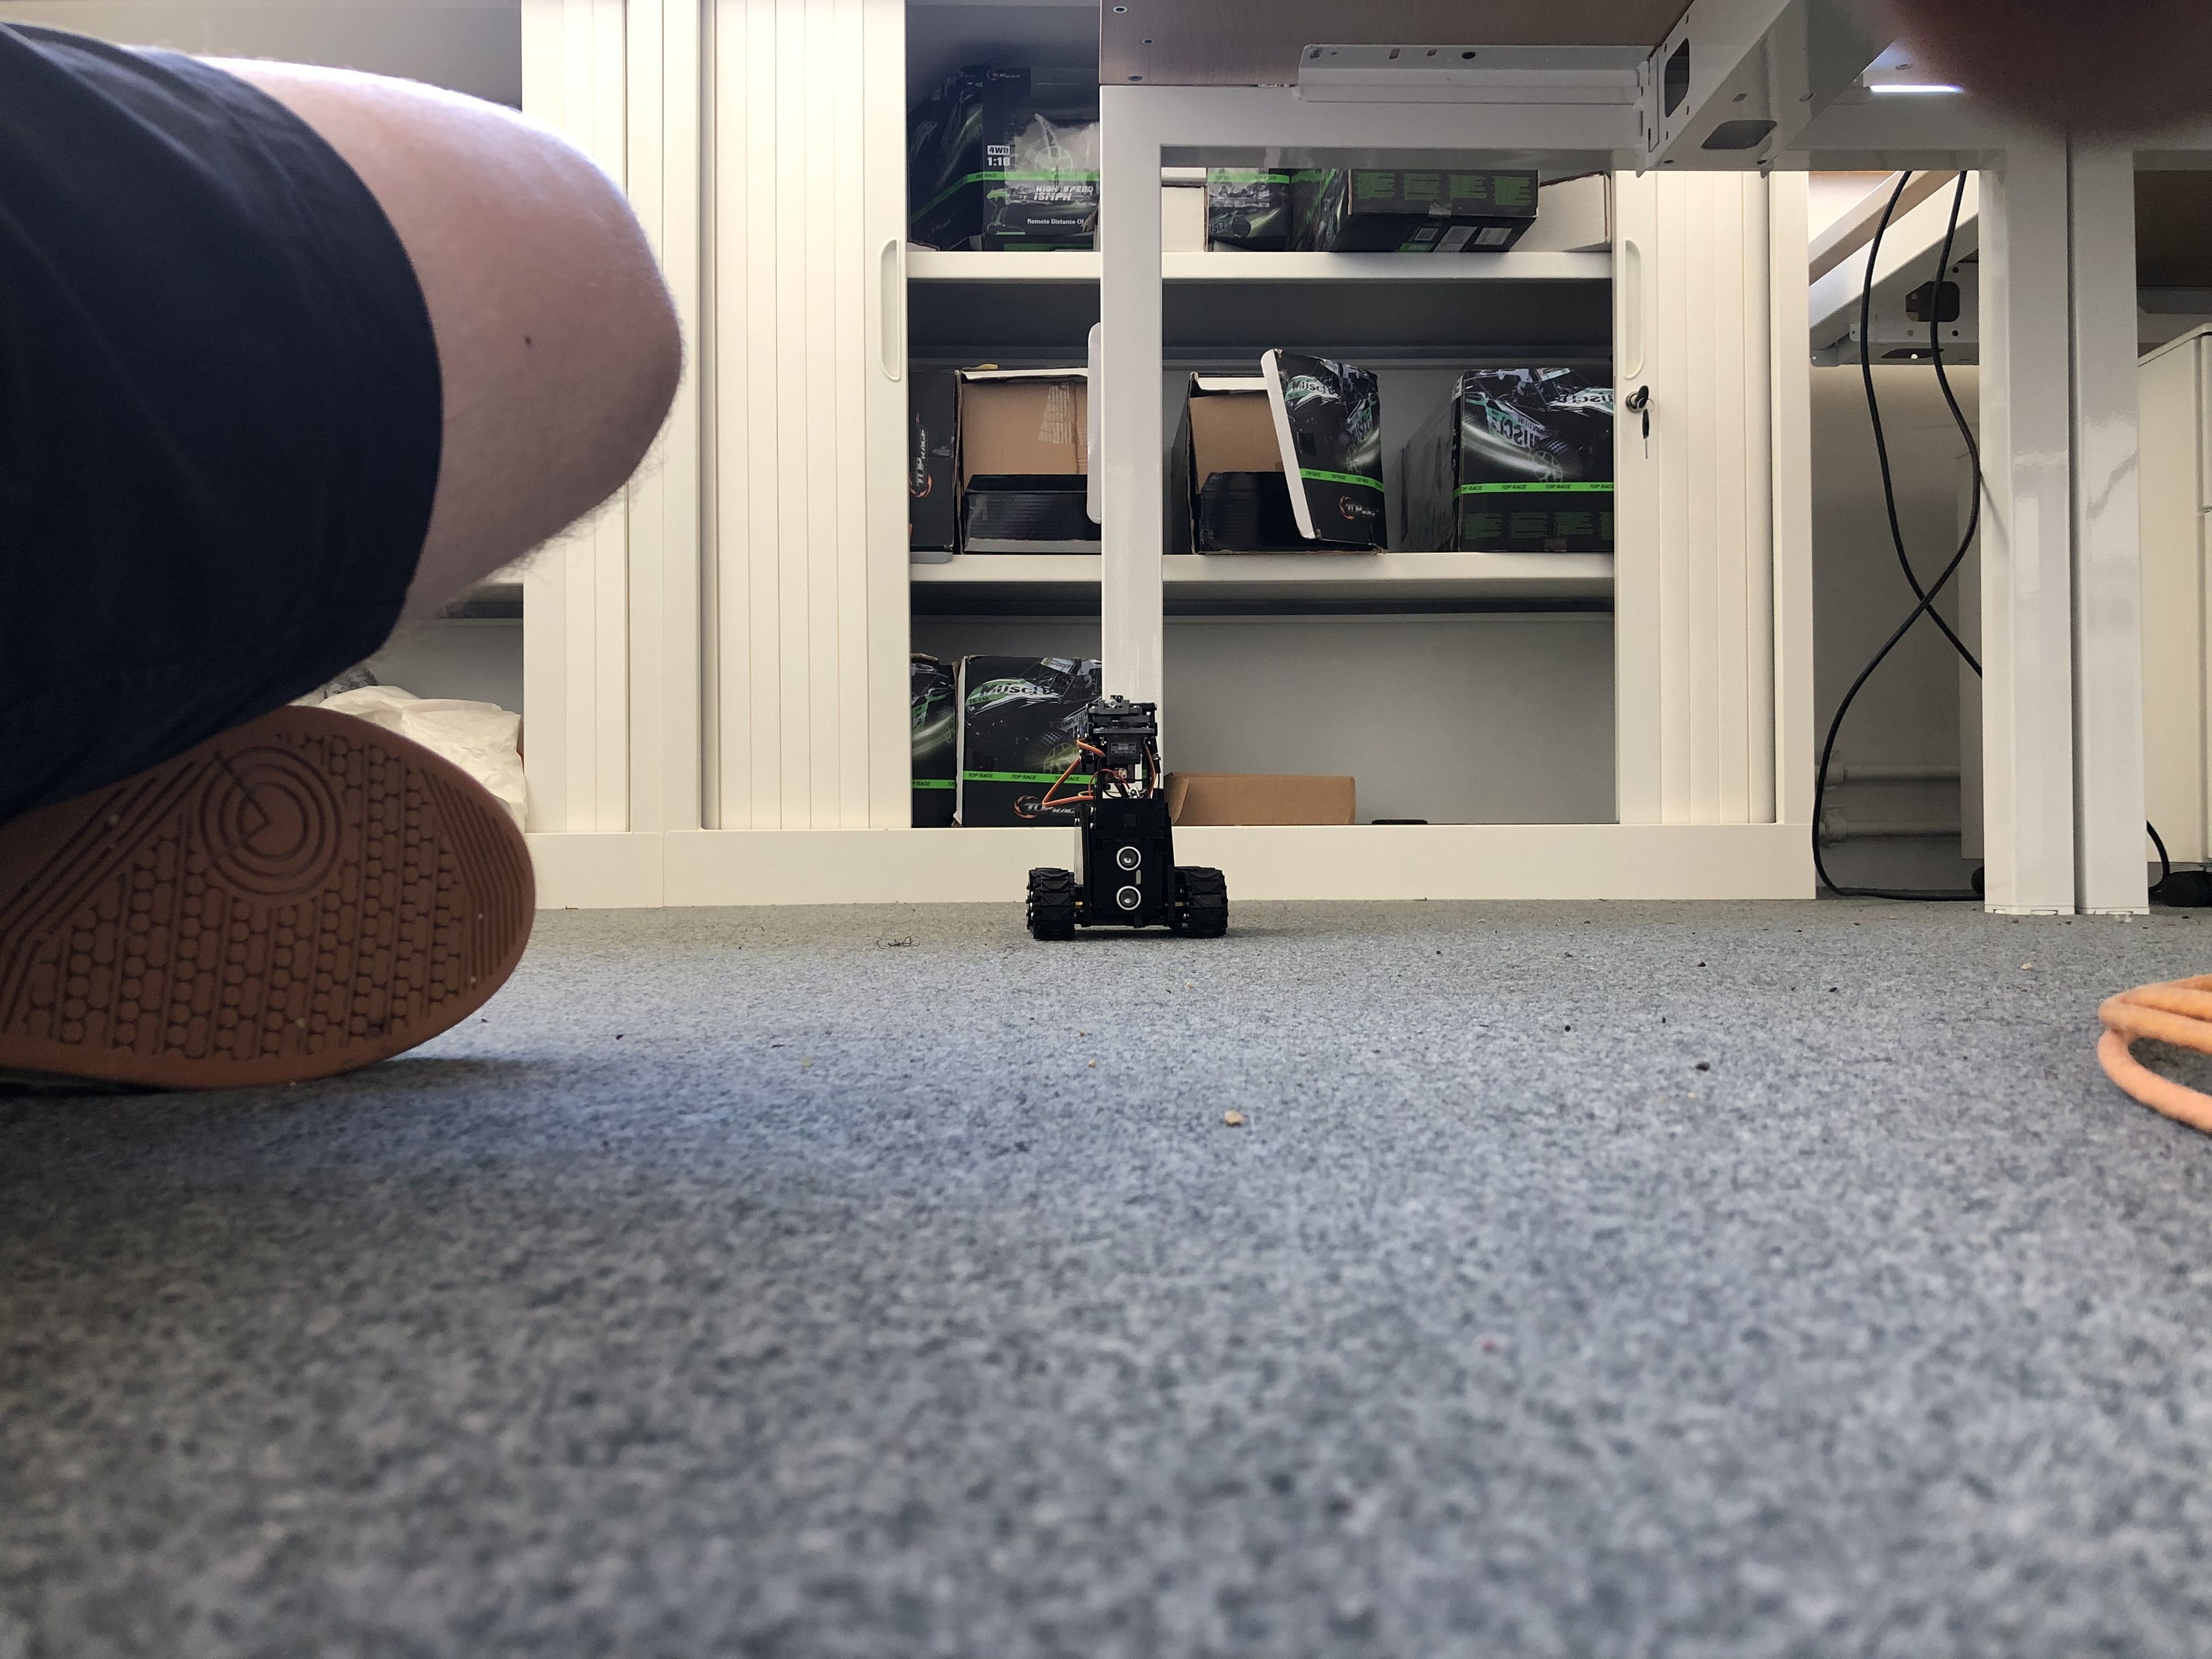rasptank: (1021, 694, 1245, 945)
